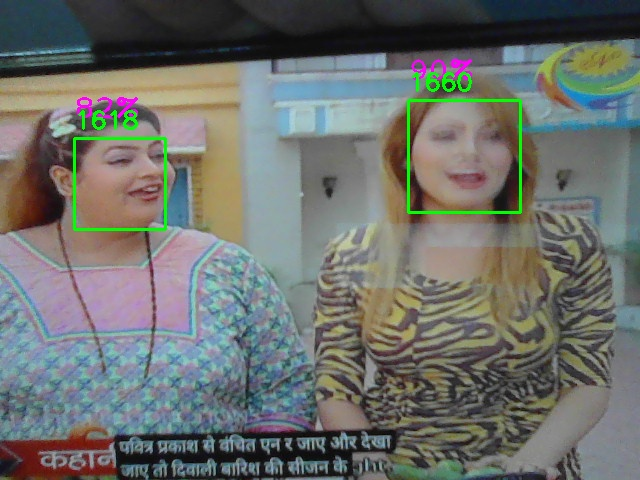fake: (408, 100, 521, 213), (74, 138, 166, 230)
